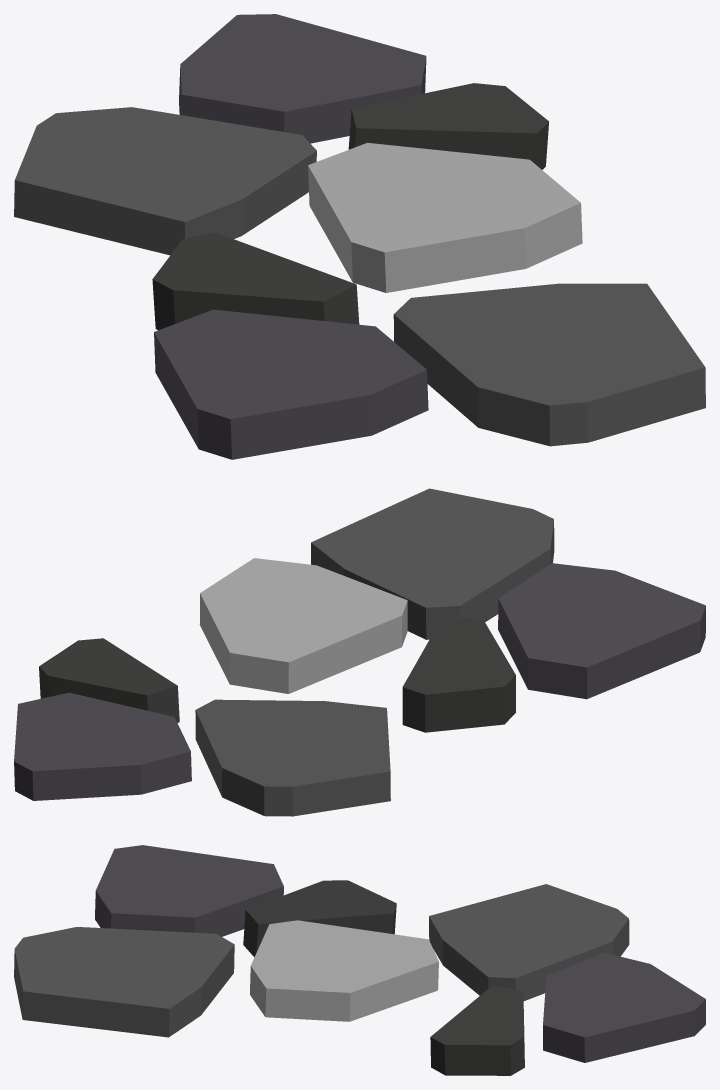
File: stones.fbx
3 views of the same model, one above another, from view 1: azimuth 30°, elevation 25°; view 2: azimuth 150°, elevation 25°; view 3: azimuth 270°, elevation 25° (orthographic). The views are drawn at different scales.
Parts seen in each view (by area): view 1: Broken Floor Tiles C.010, Broken Floor Tiles C.012, Broken Floor Tiles C.019, Broken Floor Tiles C.011, Broken Floor Tiles C.014, Broken Floor Tiles C.013, Broken Floor Tiles C.015; view 2: Broken Floor Tiles C.010, Broken Floor Tiles C.019, Broken Floor Tiles C.011, Broken Floor Tiles C.012, Broken Floor Tiles C.014, Broken Floor Tiles C.013, Broken Floor Tiles C.015; view 3: Broken Floor Tiles C.010, Broken Floor Tiles C.019, Broken Floor Tiles C.012, Broken Floor Tiles C.014, Broken Floor Tiles C.011, Broken Floor Tiles C.015, Broken Floor Tiles C.013.
Part boxes in pixels (bbox=[...]): Broken Floor Tiles C.010: bbox=[393, 283, 705, 446]; Broken Floor Tiles C.012: bbox=[14, 107, 316, 255]; Broken Floor Tiles C.019: bbox=[308, 143, 582, 292]; Broken Floor Tiles C.011: bbox=[154, 309, 428, 459]; Broken Floor Tiles C.014: bbox=[179, 14, 426, 143]; Broken Floor Tiles C.013: bbox=[152, 232, 359, 330]; Broken Floor Tiles C.015: bbox=[348, 83, 549, 169]; Broken Floor Tiles C.010: bbox=[311, 488, 554, 639]; Broken Floor Tiles C.019: bbox=[199, 558, 407, 693]; Broken Floor Tiles C.011: bbox=[498, 563, 705, 699]; Broken Floor Tiles C.012: bbox=[195, 699, 390, 816]; Broken Floor Tiles C.014: bbox=[14, 692, 191, 800]; Broken Floor Tiles C.013: bbox=[402, 616, 515, 732]; Broken Floor Tiles C.015: bbox=[39, 638, 179, 722]; Broken Floor Tiles C.010: bbox=[14, 927, 234, 1037]; Broken Floor Tiles C.019: bbox=[250, 920, 438, 1021]; Broken Floor Tiles C.012: bbox=[429, 884, 629, 1000]; Broken Floor Tiles C.014: bbox=[543, 953, 705, 1062]; Broken Floor Tiles C.011: bbox=[95, 845, 283, 936]; Broken Floor Tiles C.015: bbox=[430, 985, 524, 1075]; Broken Floor Tiles C.013: bbox=[243, 880, 396, 957].
Size of the model in its own units: 147 by 19.41 by 219.
